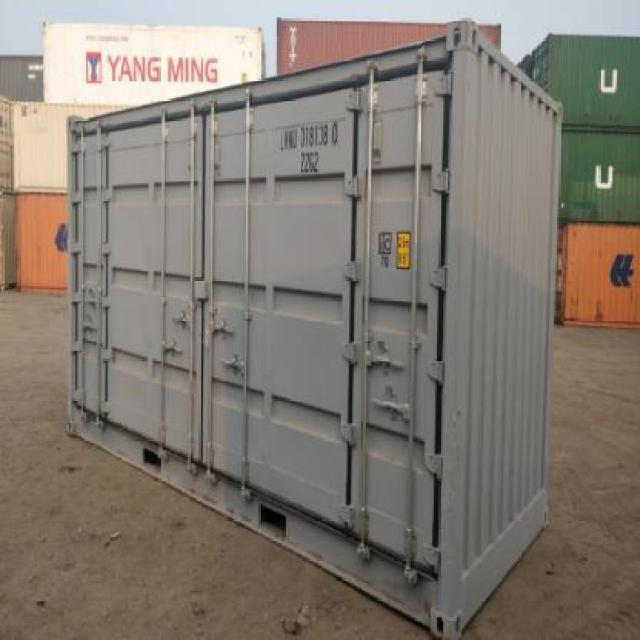ISO: (295, 153, 324, 174)
container_number: (272, 124, 338, 150)
